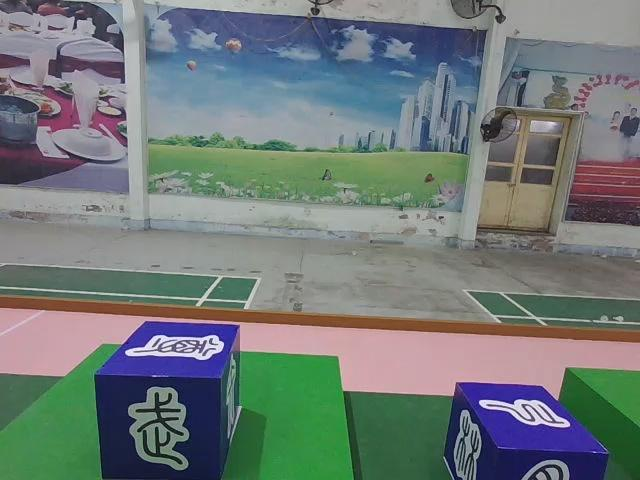R2 Fake Blue: (99, 318, 246, 480), (445, 384, 611, 480)
